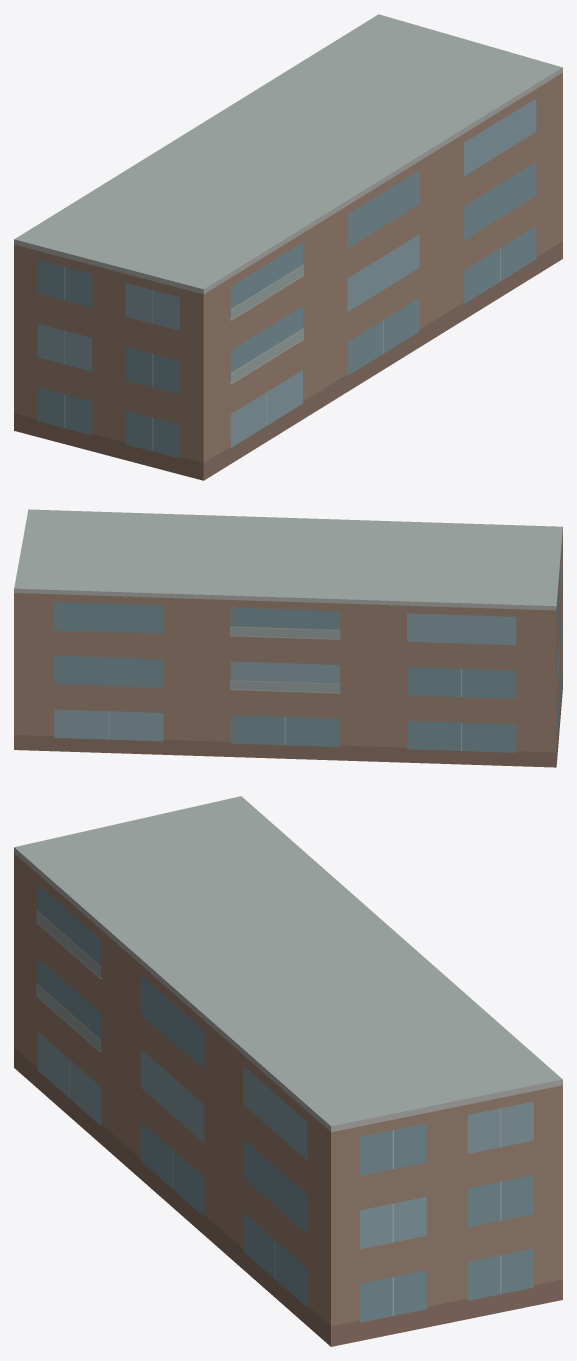
The model's file is survey-upis-32613837.glb.
3 views of the same model, one above another, from view 1: azimuth 30°, elevation 25°; view 2: azimuth 150°, elevation 25°; view 3: azimuth 270°, elevation 25° (orthographic). The views are drawn at different scales.
Visible parts, largest first — view 1: survey-upis-32613837.tmp; view 2: survey-upis-32613837.tmp; view 3: survey-upis-32613837.tmp.
Boxes of the visible parts, box(x1,y1,x2,y2) form: survey-upis-32613837.tmp: box(14, 14, 562, 480); survey-upis-32613837.tmp: box(14, 509, 562, 767); survey-upis-32613837.tmp: box(14, 796, 562, 1346).
Bounding box in the file's own units: 29.41 × 9.15 × 20.65.
